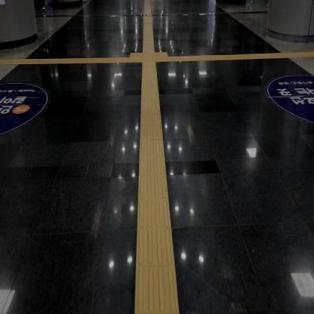Podoctatil: (134, 62, 178, 313), (120, 43, 177, 76), (169, 51, 314, 61), (0, 57, 128, 66), (142, 0, 155, 52)
